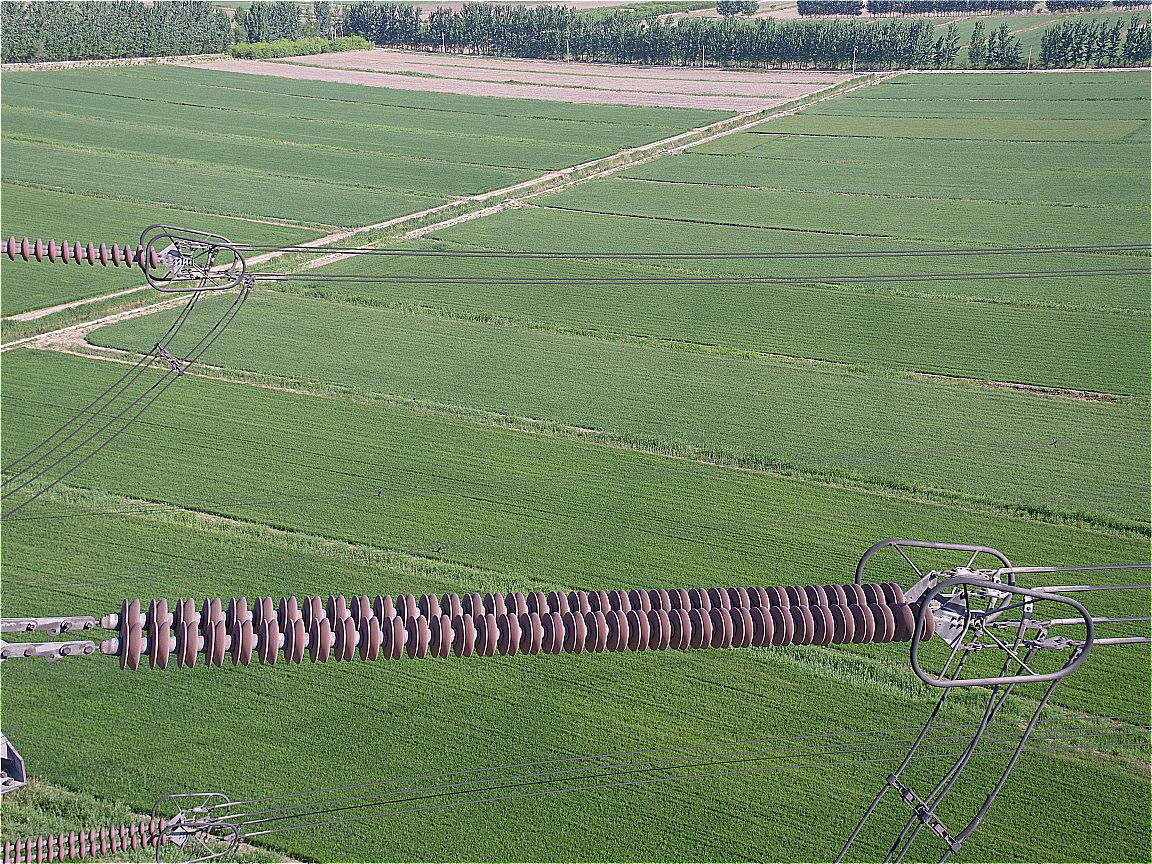insultor2: (89, 575, 960, 678)
